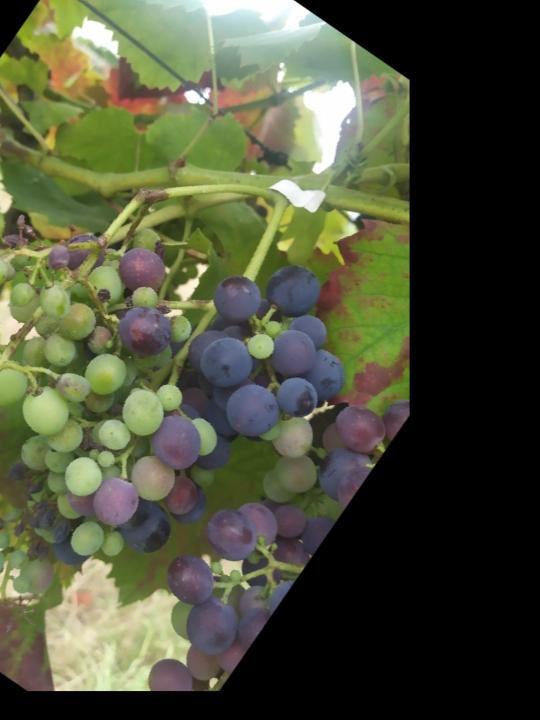grape: (0, 184, 394, 657), (0, 132, 189, 593)
